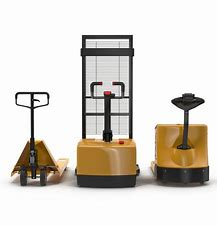Pallet Jack: (74, 32, 141, 188), (149, 92, 211, 186), (10, 90, 70, 187)
